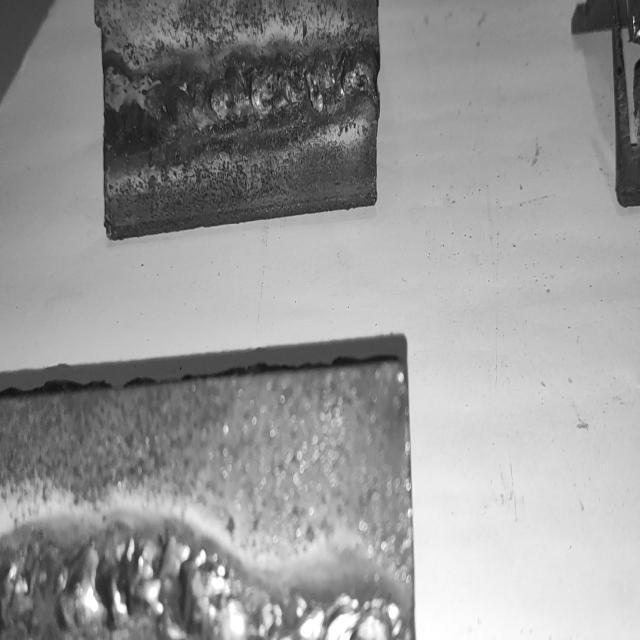Defect: (9, 536, 394, 640)
Welding Line: (174, 48, 376, 132)
Workpiece: (0, 366, 412, 640), (104, 0, 378, 235)
